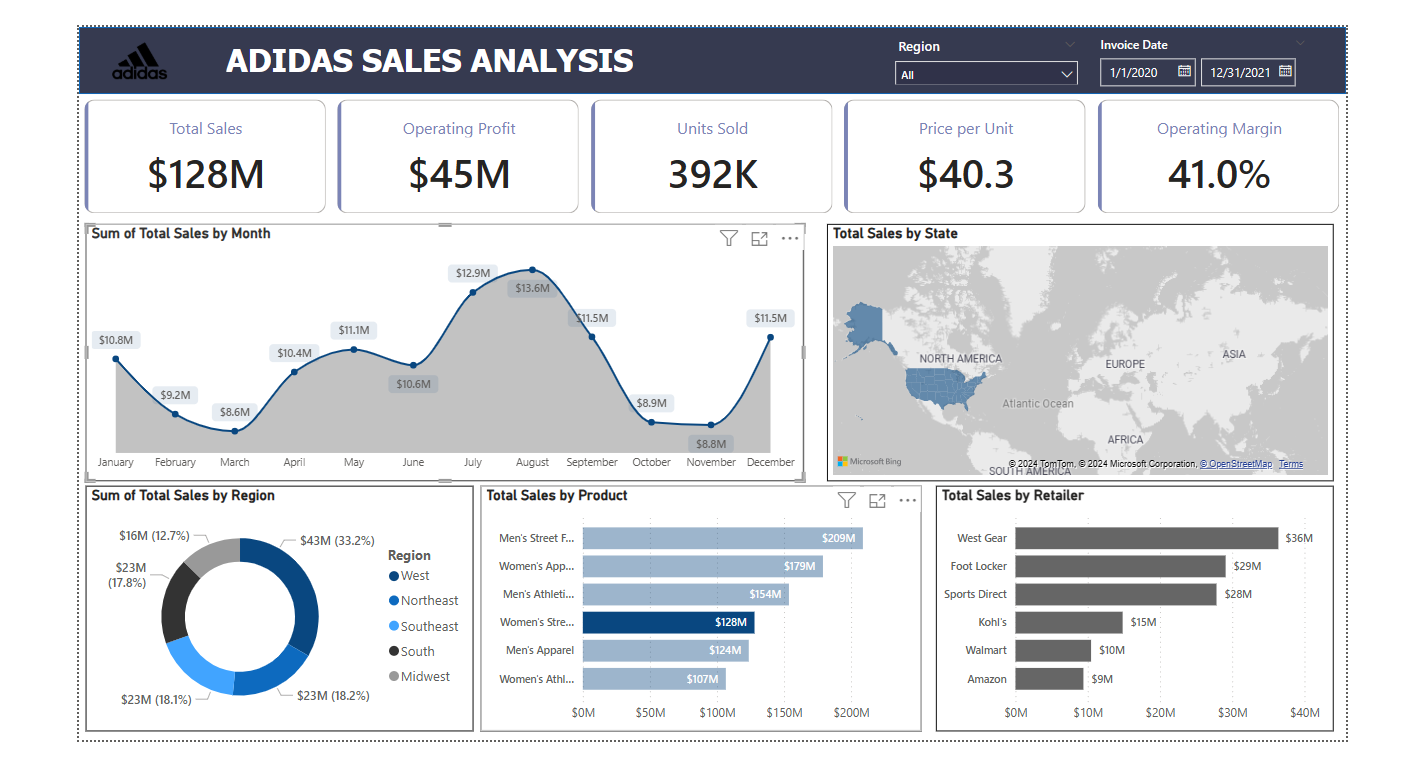

The page's visual inventory and layout, read from the dashboard file:
{"tool":"powerbi","page":{"name":"Adidas Dashboard","canvas":[1280,720],"ordinal":0},"visuals":[{"type":"shape","box":[0,0,1280,67.8],"z":0},{"type":"textbox","box":[143.3,7.8,431.1,52.2],"z":1000},{"type":"image","box":[24.4,10,74.4,47.8],"z":2000},{"type":"cardVisual","fields":{"Data":["Sum(Data Sales Adidas.Total Sales)","Sum(Data Sales Adidas.Operating Profit)","Sum(Data Sales Adidas.Units Sold)","Avg(Data Sales Adidas.Price per Unit)","Avg(Data Sales Adidas.Operating Margin)"]},"box":[0,67.8,1280,125.6],"z":3000},{"type":"areaChart","fields":{"Category":["Data Sales Adidas.Invoice Date.Variation.Date Hierarchy.Month"],"Y":["Sum(Data Sales Adidas.Total Sales)"]},"box":[6.7,198.9,725.6,260],"z":4000},{"type":"filledMap","title":"Total Sales by State","fields":{"Category":["Data Sales Adidas.State"],"Y":["Sum(Data Sales Adidas.Total Sales)"]},"box":[755.6,198.9,512.2,260],"z":5000},{"type":"donutChart","fields":{"Category":["Data Sales Adidas.Region"],"Y":["Sum(Data Sales Adidas.Total Sales)"]},"box":[6.7,463.3,392.2,247.8],"z":6000},{"type":"barChart","title":"Total Sales by Product","fields":{"Category":["Data Sales Adidas.Product"],"Y":["Sum(Data Sales Adidas.Total Sales)"]},"box":[405.6,463.3,445.6,247.8],"z":7000},{"type":"barChart","title":"Total Sales by Retailer","fields":{"Y":["Sum(Data Sales Adidas.Total Sales)"],"Category":["Data Sales Adidas.Retailer"]},"box":[865.6,463.3,402.2,247.8],"z":8000},{"type":"slicer","fields":{"Values":["Data Sales Adidas.Region"]},"box":[814.4,4.4,204.4,53.3],"z":9000},{"type":"slicer","fields":{"Values":["Data Sales Adidas.Invoice Date"]},"box":[1018.9,4.4,232.2,60],"z":10000}]}

Visuals, with their boxes on the page's 1280x720 design canvas (x1, y1, x2, y2). These are canvas units, not pixel positions in the 1416x766 screenshot, which may show the page scaled, cropped or inside an application window:
shape: (0, 0, 1280, 68)
textbox: (143, 8, 574, 60)
image: (24, 10, 99, 58)
cardVisual - Sum(Data Sales Adidas.Total Sales) x Sum(Data Sales Adidas.Operating Profit): (0, 68, 1280, 193)
areaChart - Data Sales Adidas.Invoice Date.Variation.Date Hierarchy.Month x Sum(Data Sales Adidas.Total Sales): (7, 199, 732, 459)
"Total Sales by State" filledMap: (756, 199, 1268, 459)
donutChart - Data Sales Adidas.Region x Sum(Data Sales Adidas.Total Sales): (7, 463, 399, 711)
"Total Sales by Product" barChart: (406, 463, 851, 711)
"Total Sales by Retailer" barChart: (866, 463, 1268, 711)
slicer - Data Sales Adidas.Region: (814, 4, 1019, 58)
slicer - Data Sales Adidas.Invoice Date: (1019, 4, 1251, 64)
